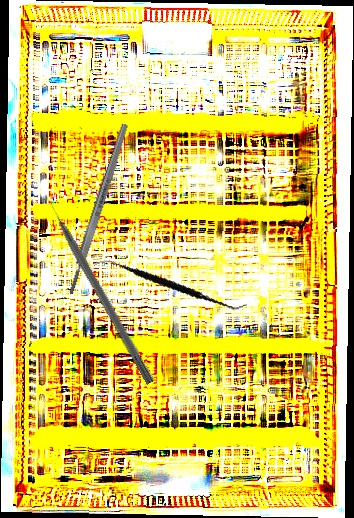Pusher: (41, 190, 157, 386)
Scalpel Handle: (65, 122, 131, 296)
Spatula Surgical: (95, 228, 248, 339)
